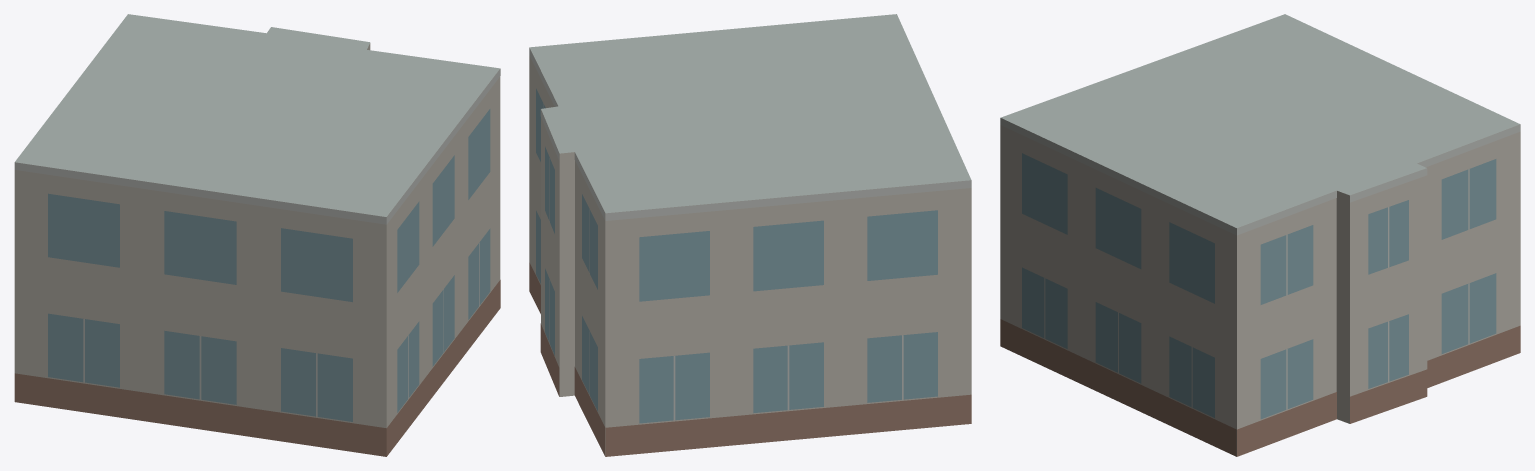
Rendered from survey-upis-32639422.glb.
3 views of the same model, side by side, from view 1: azimuth 30°, elevation 25°; view 2: azimuth 150°, elevation 25°; view 3: azimuth 270°, elevation 25° (orthographic). The views are drawn at different scales.
Visible parts, largest first — view 1: survey-upis-32639422.tmp; view 2: survey-upis-32639422.tmp; view 3: survey-upis-32639422.tmp.
Boxes of the visible parts, left/top/right/bottom form: survey-upis-32639422.tmp: left=14, top=14, right=500, bottom=456; survey-upis-32639422.tmp: left=529, top=14, right=971, bottom=456; survey-upis-32639422.tmp: left=1000, top=14, right=1520, bottom=456.
Bounding box in the file's own units: 15.49 × 7.7 × 15.89.
